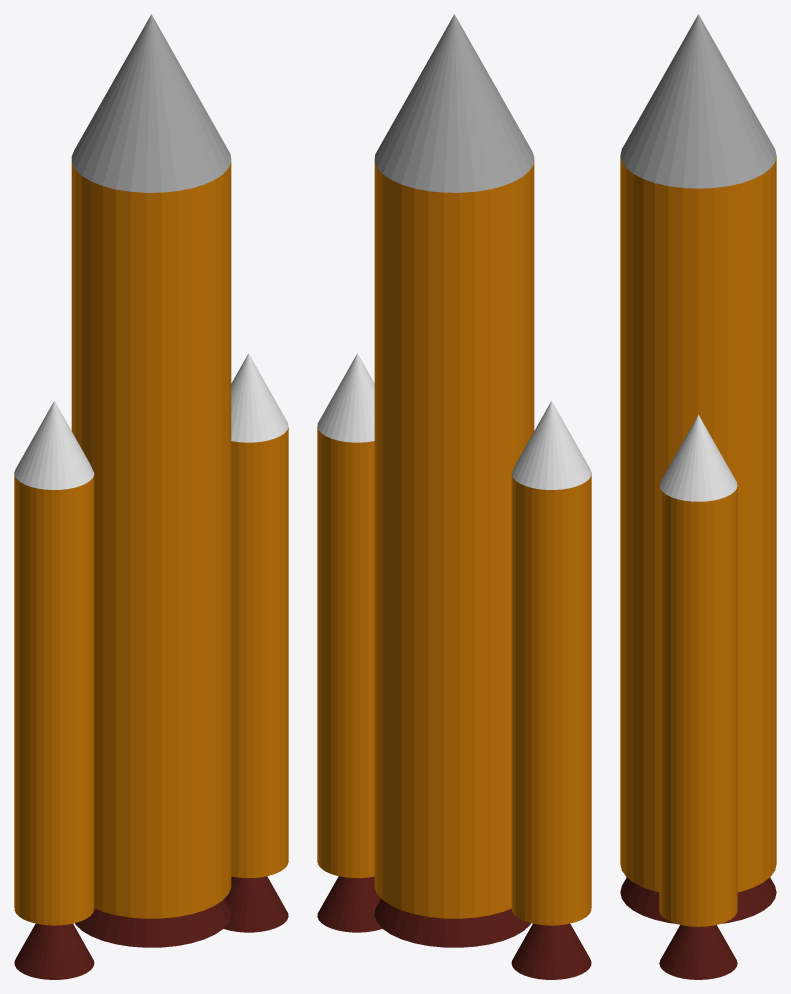
File: rocket.glb
The picture shows the model from 3 angles, left to right: view 1: azimuth 30°, elevation 25°; view 2: azimuth 150°, elevation 25°; view 3: azimuth 270°, elevation 25°; orthographic projection. The views are drawn at different scales.
Parts seen in each view (by area): view 1: Cylinder.001, Cylinder.002, Cylinder, Cone.003, Cone.002, Cone, Cone.001, Cone.004, Cone.005; view 2: Cylinder.001, Cylinder.002, Cylinder, Cone.003, Cone.002, Cone, Cone.001, Cone.004, Cone.005; view 3: Cylinder.001, Cylinder, Cone.003, Cone.004, Cone.005, Cone.002.
Part boxes in pixels (x1,y1,x2,y2): Cylinder.001: (71, 160, 231, 918); Cylinder.002: (14, 473, 94, 925); Cylinder: (231, 427, 288, 878); Cone.003: (71, 14, 231, 192); Cone.002: (75, 898, 231, 947); Cone: (14, 401, 94, 489); Cone.001: (14, 923, 94, 979); Cone.004: (231, 353, 288, 442); Cone.005: (223, 876, 288, 932); Cylinder.001: (374, 160, 534, 918); Cylinder.002: (511, 473, 591, 925); Cylinder: (317, 427, 374, 878); Cone.003: (374, 14, 534, 192); Cone.002: (374, 898, 530, 947); Cone: (511, 401, 591, 489); Cone.001: (511, 923, 591, 979); Cone.004: (317, 353, 374, 442); Cone.005: (317, 876, 382, 932); Cylinder.001: (620, 156, 776, 892); Cylinder: (659, 486, 737, 926); Cone.003: (620, 14, 776, 188); Cone.004: (659, 414, 737, 501); Cone.005: (659, 925, 737, 979); Cone.002: (620, 877, 776, 923).
Bounding box in the file's own units: 0.76 × 2.55 × 0.4.
